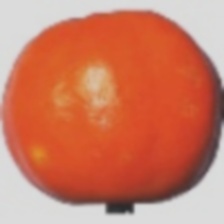tangerine: (23, 18, 165, 188)
